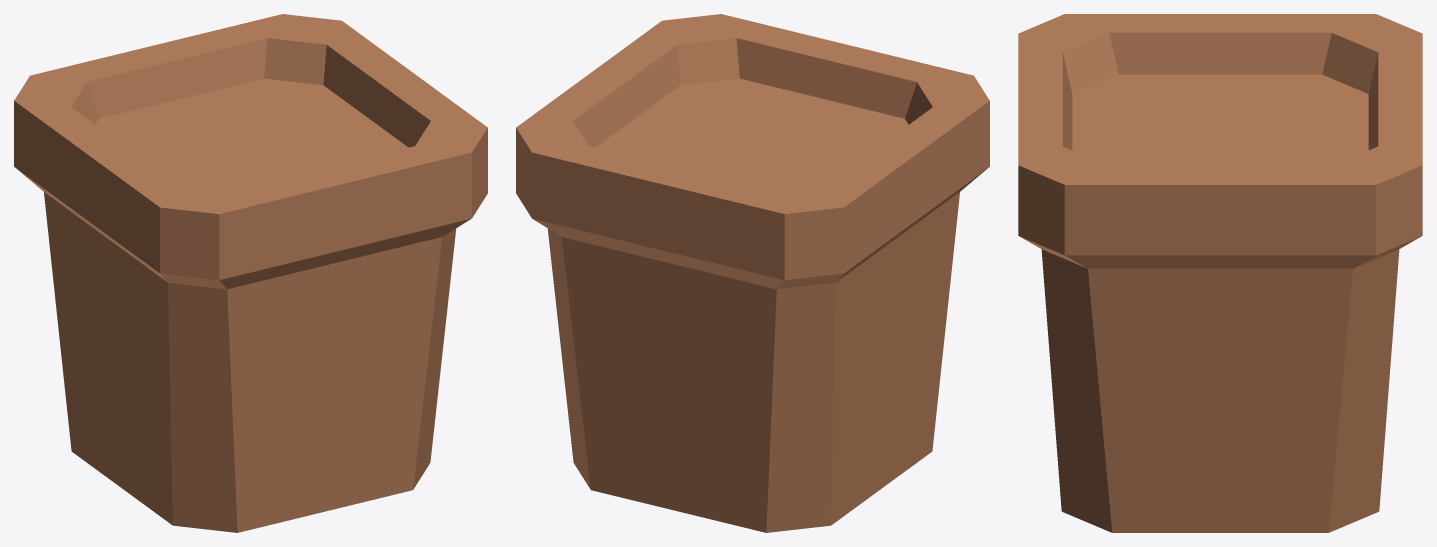
The model's file is pot.fbx.
3 renders of one model, left to right at view 1: azimuth 30°, elevation 25°; view 2: azimuth 150°, elevation 25°; view 3: azimuth 270°, elevation 25°, orthographic. The views are drawn at different scales.
Visible parts, largest first — view 1: Cube.002; view 2: Cube.002; view 3: Cube.002.
Part boxes in pixels (x1,y1,x2,y2): Cube.002: (14,14,487,532); Cube.002: (516,14,989,532); Cube.002: (1018,14,1422,532).
Bounding box in the file's own units: 50 × 50 × 50.
